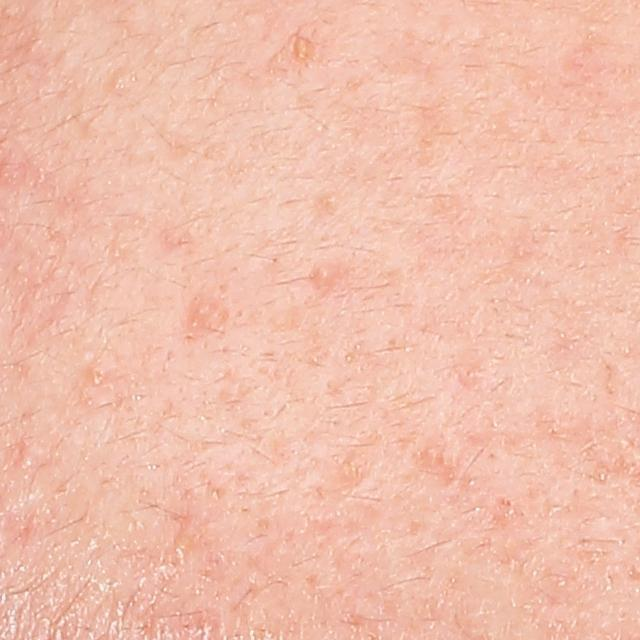comedo: (82, 361, 110, 391), (111, 69, 134, 95), (292, 33, 311, 63)
